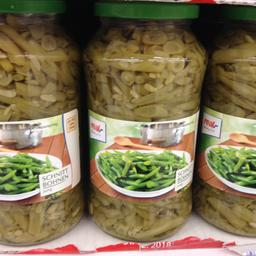beans: (84, 2, 206, 241), (0, 0, 80, 240), (210, 1, 255, 240)
